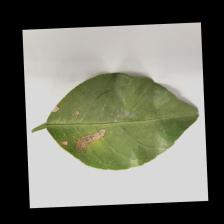canker: (40, 91, 108, 162)
